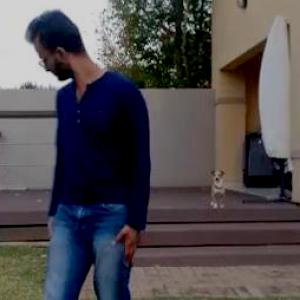follow: (107, 0, 299, 299), (18, 0, 145, 299)
